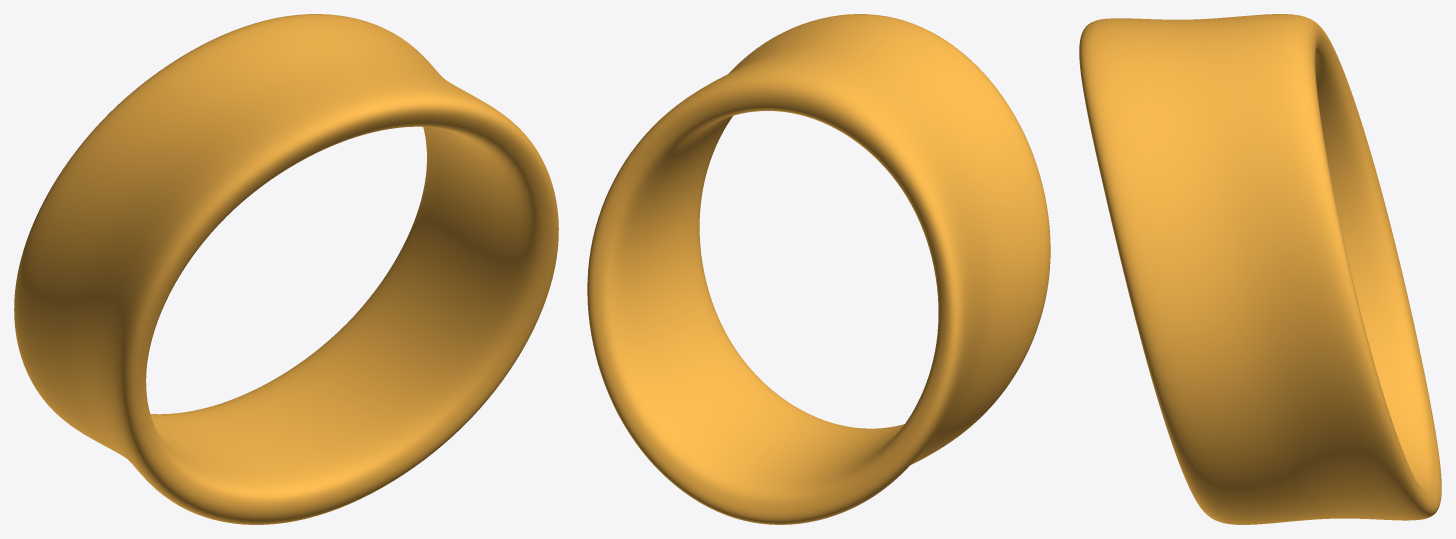
Rendered from disc_gltf.glb.
3 views of the same model, side by side, from view 1: azimuth 30°, elevation 25°; view 2: azimuth 150°, elevation 25°; view 3: azimuth 270°, elevation 25° (orthographic). The views are drawn at different scales.
Parts seen in each view (by area): view 1: disc; view 2: disc; view 3: disc.
Boxes of the visible parts, x1,y1,x2,y2 form: disc: (14,14,558,524); disc: (587,14,1050,524); disc: (1079,14,1441,524).
Bounding box in the file's own units: 23.84 × 25.22 × 17.59.
